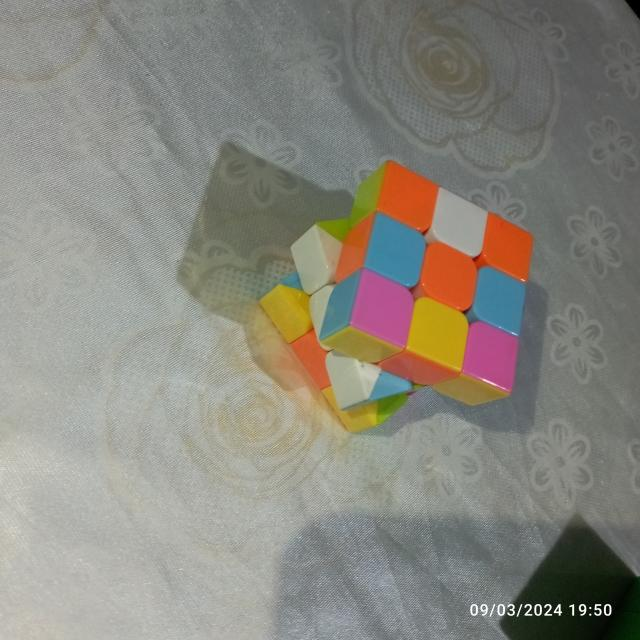Rub: (253, 158, 538, 432)
